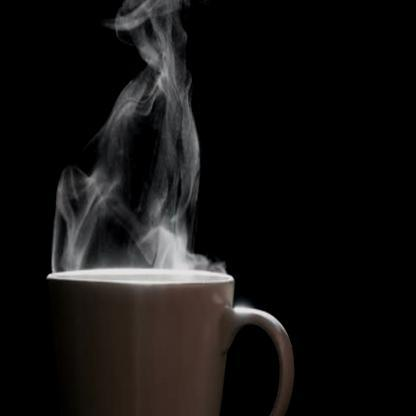smoke: (52, 0, 212, 263)
